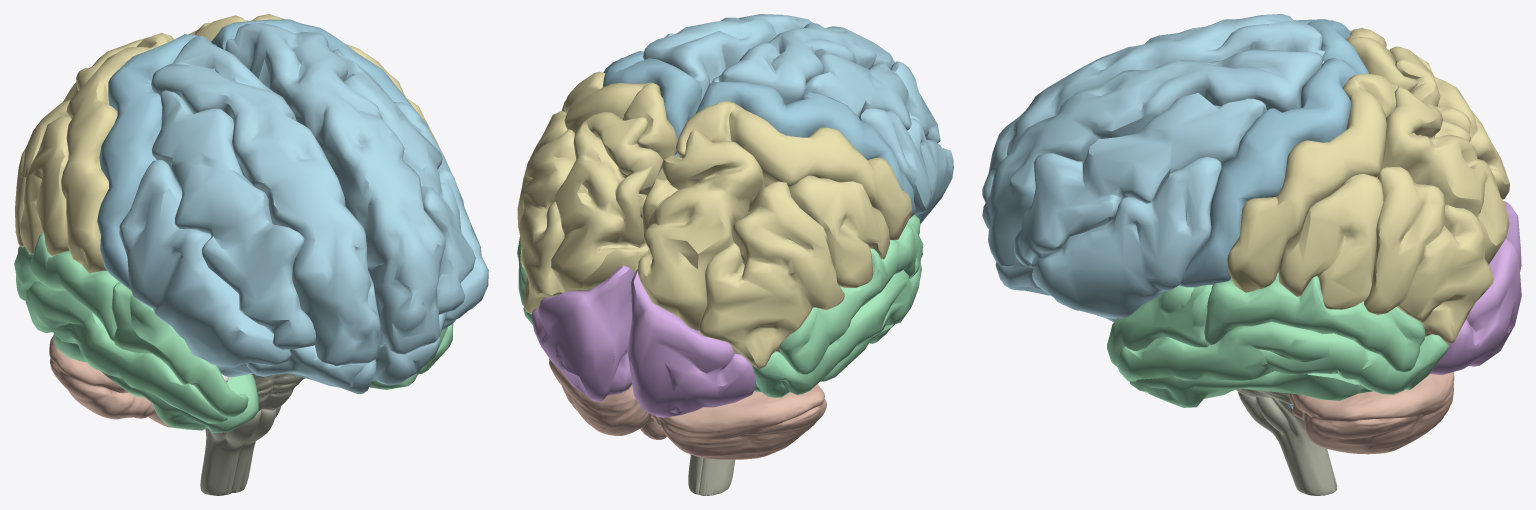
Rendered from brain_atlas.glb.
The picture shows the model from 3 angles, left to right: view 1: azimuth 30°, elevation 25°; view 2: azimuth 150°, elevation 25°; view 3: azimuth 270°, elevation 25°; orthographic projection. The views are drawn at different scales.
Parts seen in each view (by area): view 1: Superior Frontal Gyrus (FJ1834), Superior Frontal Gyrus (FJ1833), Middle Frontal Gyrus (FJ1788), Inferior Frontal Gyrus (FJ1745), Precentral Gyrus (Motor Cortex) (FJ1801), Postcentral Gyrus (Somatosensory) (FJ1798), Middle Temporal Gyrus (FJ1790), Middle Frontal Gyrus (FJ1787), Superior Temporal Gyrus (FJ1838), Supramarginal Gyrus (FJ1842), Superior Temporal Gyrus (FJ1840), Cerebellum (FJ1830) (+11 smaller); view 2: Angular Gyrus (FJ1733), Superior Parietal Lobule (FJ1836), Superior Parietal Lobule (FJ1835), Occipital Lobe (FJ1792), Postcentral Gyrus (Somatosensory) (FJ1798), Occipital Lobe (FJ1791), Cerebellum (FJ1830), Superior Frontal Gyrus (FJ1834), Angular Gyrus (FJ1732), Supramarginal Gyrus (FJ1842), Precentral Gyrus (Motor Cortex) (FJ1801), Superior Frontal Gyrus (FJ1833) (+11 smaller); view 3: Superior Frontal Gyrus (FJ1833), Middle Frontal Gyrus (FJ1787), Inferior Frontal Gyrus (FJ1744), Angular Gyrus (FJ1732), Middle Temporal Gyrus (FJ1789), Postcentral Gyrus (Somatosensory) (FJ1797), Precentral Gyrus (Motor Cortex) (FJ1800), Superior Frontal Gyrus (FJ1834), Supramarginal Gyrus (FJ1841), Superior Parietal Lobule (FJ1835), Superior Temporal Gyrus (FJ1839), Cerebellum (FJ1781) (+8 smaller).
Part boxes in pixels (<box>): Superior Frontal Gyrus (FJ1834): <box>151,36,380,365</box>; Superior Frontal Gyrus (FJ1833): <box>225,23,445,354</box>; Middle Frontal Gyrus (FJ1788): <box>152,90,315,349</box>; Inferior Frontal Gyrus (FJ1745): <box>119,160,291,367</box>; Precentral Gyrus (Motor Cortex) (FJ1801): <box>97,34,198,290</box>; Postcentral Gyrus (Somatosensory) (FJ1798): <box>61,33,173,273</box>; Middle Temporal Gyrus (FJ1790): <box>25,281,227,423</box>; Middle Frontal Gyrus (FJ1787): <box>332,49,475,314</box>; Superior Temporal Gyrus (FJ1838): <box>111,281,248,417</box>; Supramarginal Gyrus (FJ1842): <box>20,116,71,255</box>; Superior Temporal Gyrus (FJ1840): <box>14,232,118,341</box>; Cerebellum (FJ1830): <box>49,335,170,427</box>; Angular Gyrus (FJ1733): <box>698,181,844,368</box>; Superior Parietal Lobule (FJ1836): <box>638,130,765,330</box>; Superior Parietal Lobule (FJ1835): <box>551,112,662,292</box>; Occipital Lobe (FJ1792): <box>627,269,755,417</box>; Postcentral Gyrus (Somatosensory) (FJ1798): <box>676,101,912,239</box>; Occipital Lobe (FJ1791): <box>531,265,634,401</box>; Cerebellum (FJ1830): <box>659,384,826,459</box>; Superior Frontal Gyrus (FJ1834): <box>712,23,895,104</box>; Angular Gyrus (FJ1732): <box>517,129,576,313</box>; Supramarginal Gyrus (FJ1842): <box>789,175,889,287</box>; Precentral Gyrus (Motor Cortex) (FJ1801): <box>695,82,915,218</box>; Superior Frontal Gyrus (FJ1833): <box>642,14,812,101</box>; Superior Frontal Gyrus (FJ1833): <box>982,49,1324,266</box>; Middle Frontal Gyrus (FJ1787): <box>1014,93,1266,268</box>; Inferior Frontal Gyrus (FJ1744): <box>1032,157,1221,318</box>; Angular Gyrus (FJ1732): <box>1364,166,1493,343</box>; Middle Temporal Gyrus (FJ1789): <box>1116,322,1449,394</box>; Postcentral Gyrus (Somatosensory) (FJ1797): <box>1227,74,1398,292</box>; Precentral Gyrus (Motor Cortex) (FJ1800): <box>1180,57,1357,288</box>; Superior Frontal Gyrus (FJ1834): <box>982,14,1324,202</box>; Supramarginal Gyrus (FJ1841): <box>1278,174,1384,309</box>; Superior Parietal Lobule (FJ1835): <box>1376,87,1509,264</box>; Superior Temporal Gyrus (FJ1839): <box>1204,272,1425,372</box>; Cerebellum (FJ1781): <box>1289,372,1454,454</box>.
Size of the model in its own units: 141 by 166 by 180.
